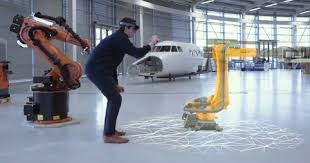hololens: (117, 20, 141, 34)
